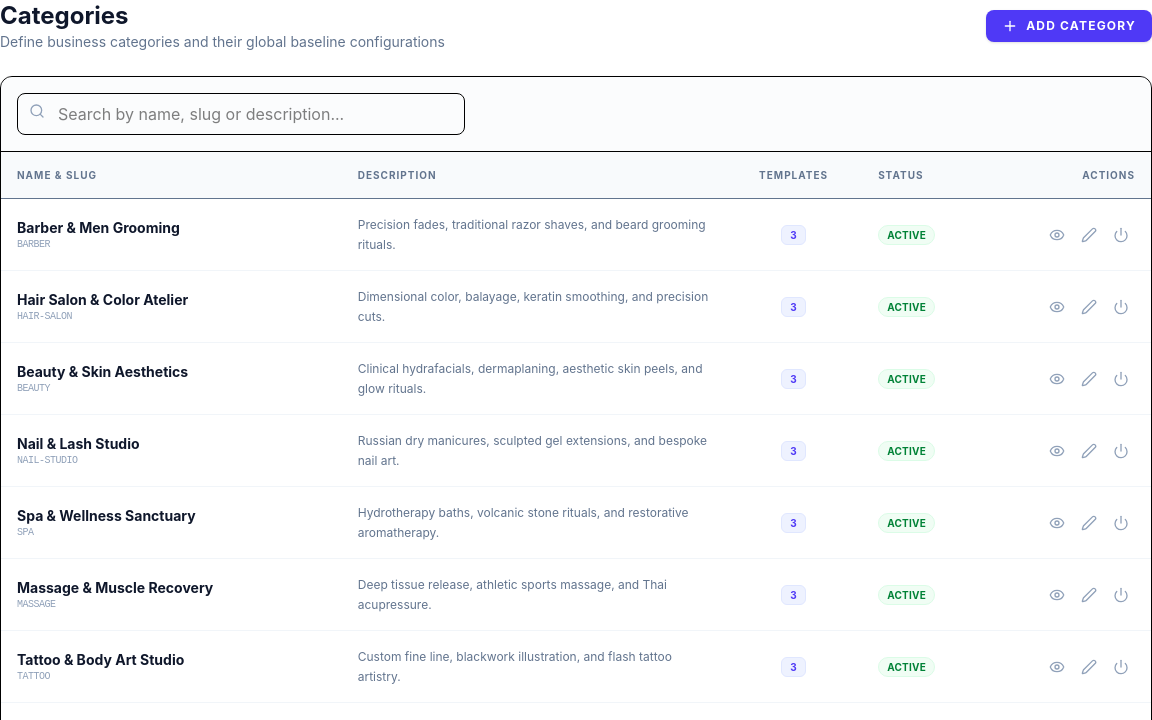
CategoryManagementPage CRUD & Validation › validates slug format (only lowercase, numbers, hyphens)
Click the button "Add Category": (1069, 26) x1=986 y1=10 x2=1151 y2=42
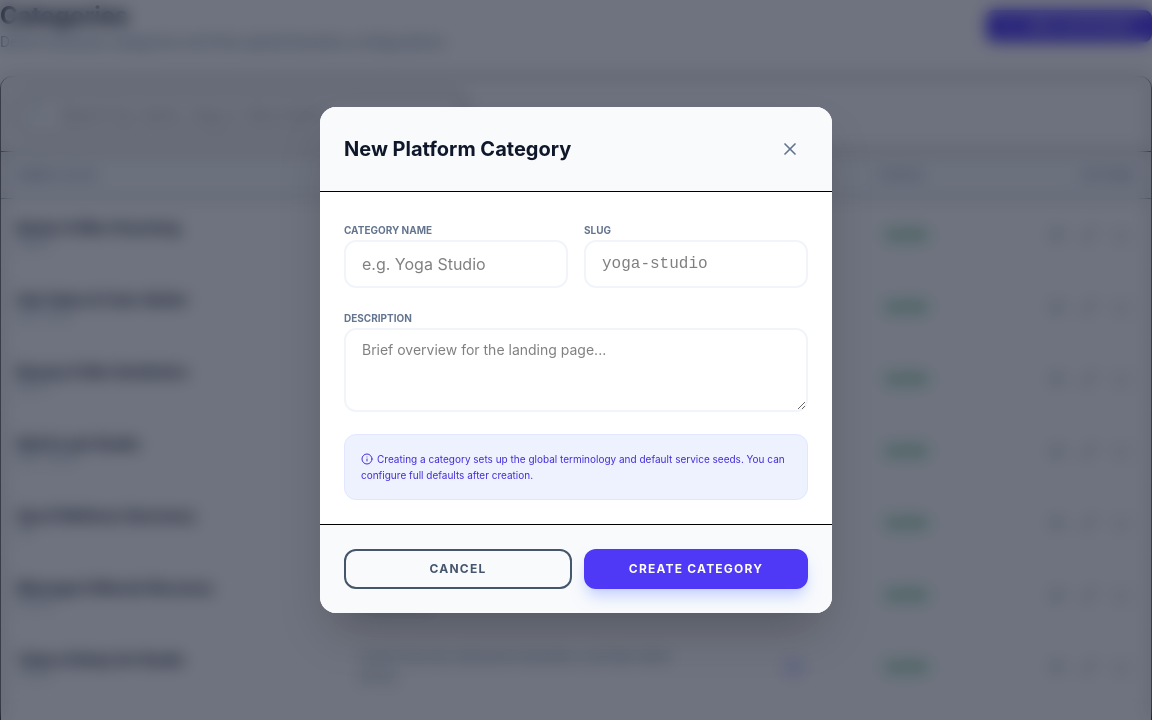
In the field with placeholder "yoga-studio": (696, 264) x1=584 y1=240 x2=808 y2=288, type "Invalid Slug!"
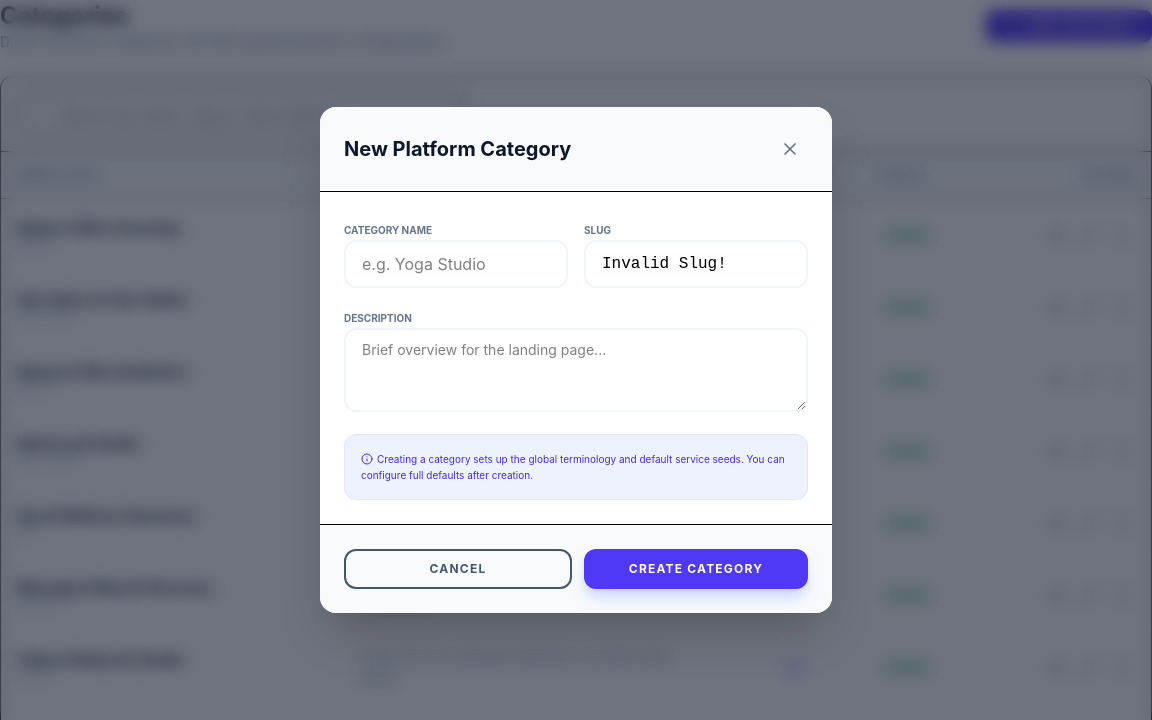
Submit the form named "Category Form", box x1=320 y1=107 x2=832 y2=613
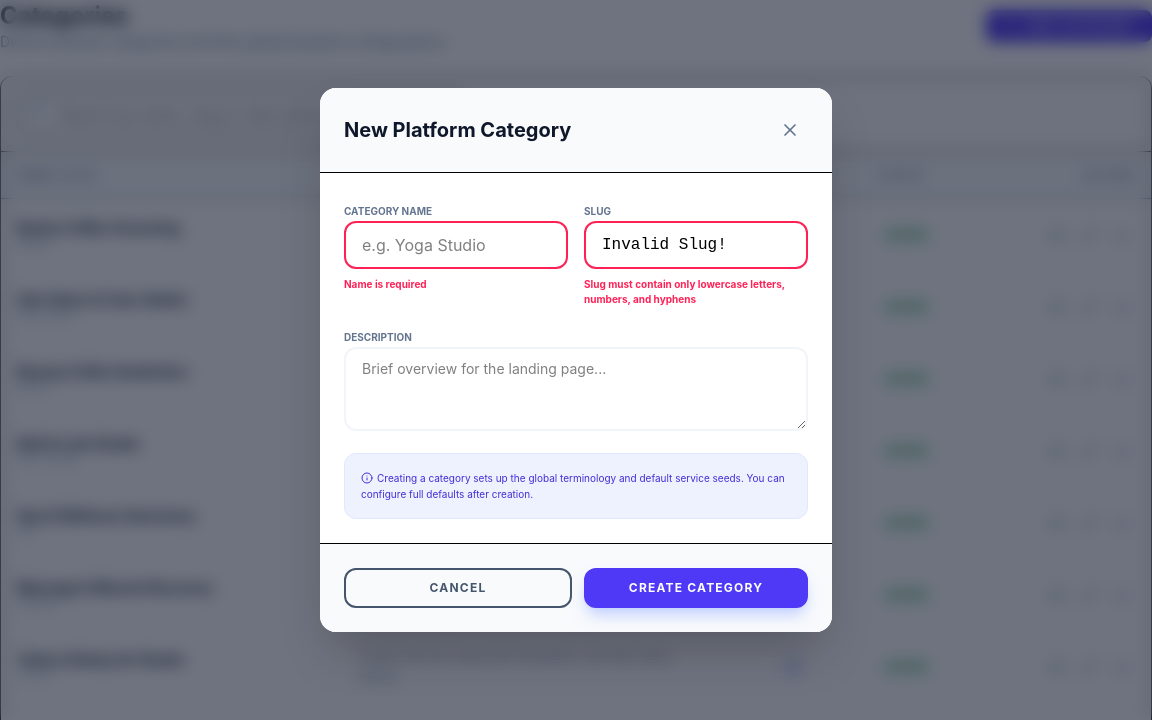
Expected: the text "Slug must contain only lowercase letters" is shown, x1=584 y1=278 x2=785 y2=305
